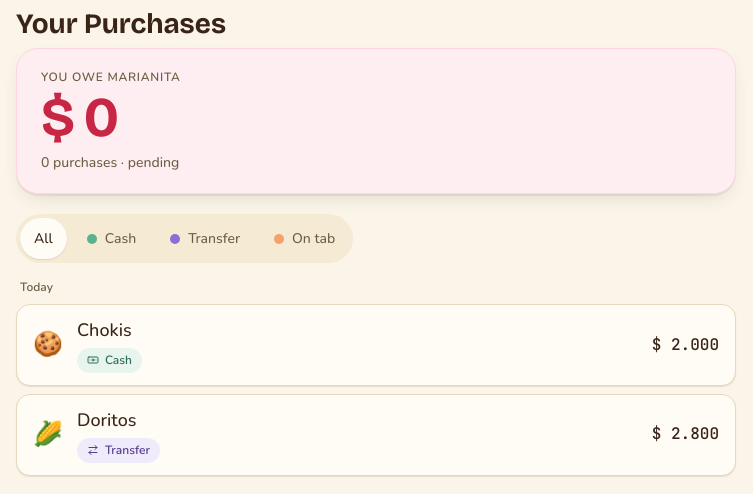
Scenario: MyPurchases — filtros › el filtro "All" restaura todas las compras tras un filtro previo
The image size is (753, 494).
What coordinates should you click on to do the following:
click the button "Cash"
I would click on:
 (111, 239)
Its box is [73, 218, 150, 259].
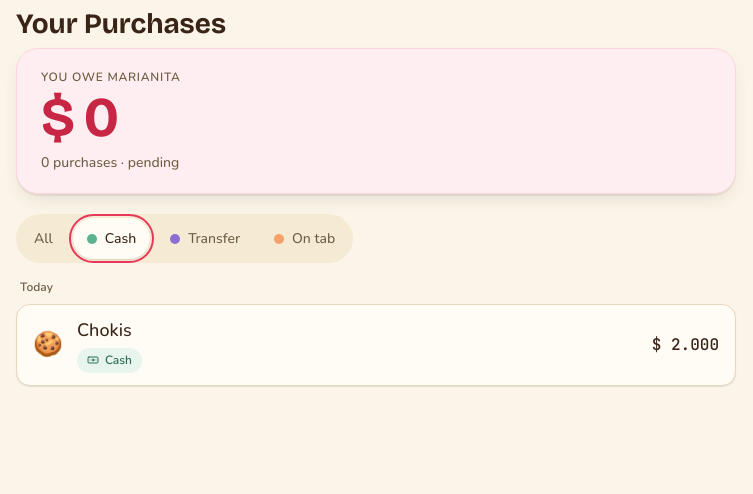
What coordinates should you click on to do the following:
click the button "All"
I would click on:
 (43, 239)
Its box is [20, 218, 67, 259].
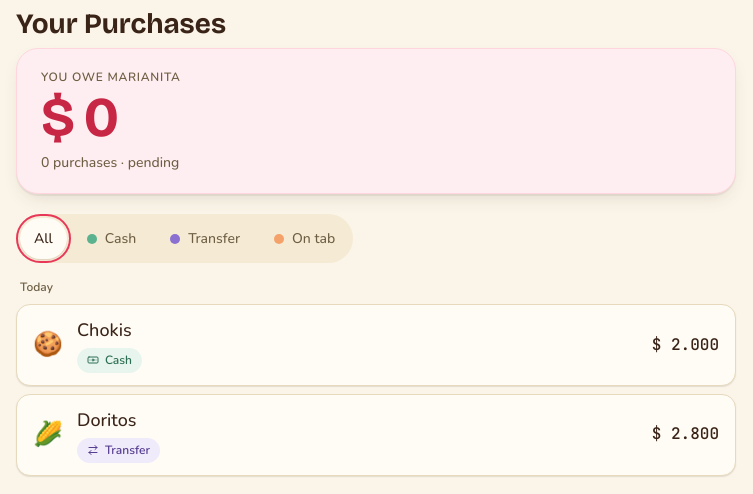
Check: the text "Chokis" is shown, box [77, 317, 132, 344]
Check: the text "Doritos" is shown, box [77, 407, 136, 434]
